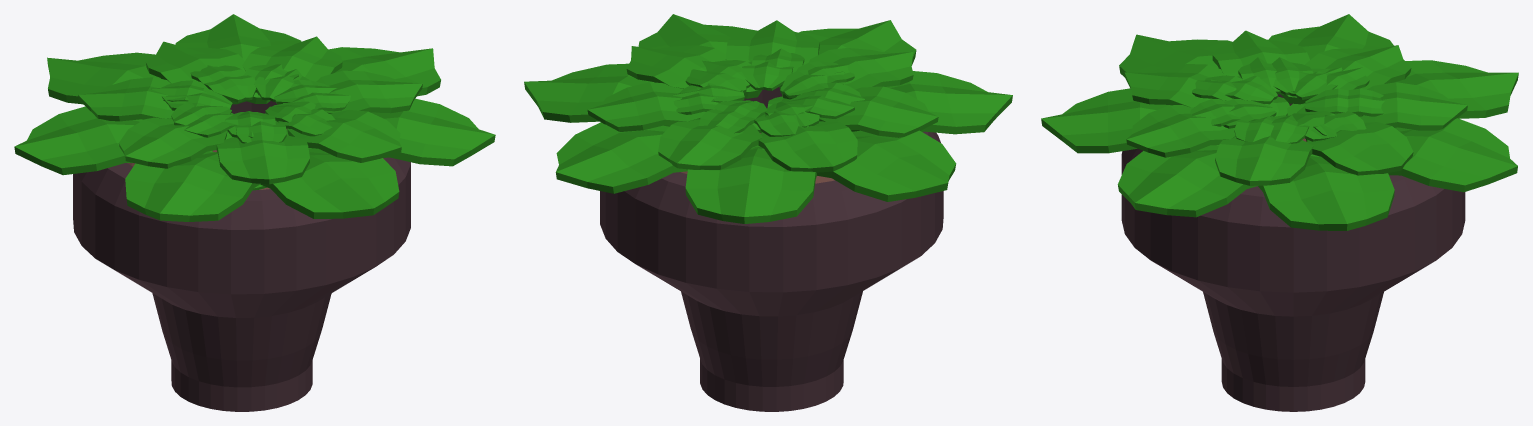
The model's file is LeafyBig.fbx.
3 views of the same model, side by side, from view 1: azimuth 30°, elevation 25°; view 2: azimuth 150°, elevation 25°; view 3: azimuth 270°, elevation 25° (orthographic).
Parts seen in each view (by area): view 1: LeafyBig; view 2: LeafyBig; view 3: LeafyBig.
Part boxes in pixels (x1,y1,x2,y2): LeafyBig: [14, 14, 495, 411]; LeafyBig: [524, 14, 1012, 411]; LeafyBig: [1041, 14, 1518, 411].
Size of the model in its own units: 205 by 200 by 134.
